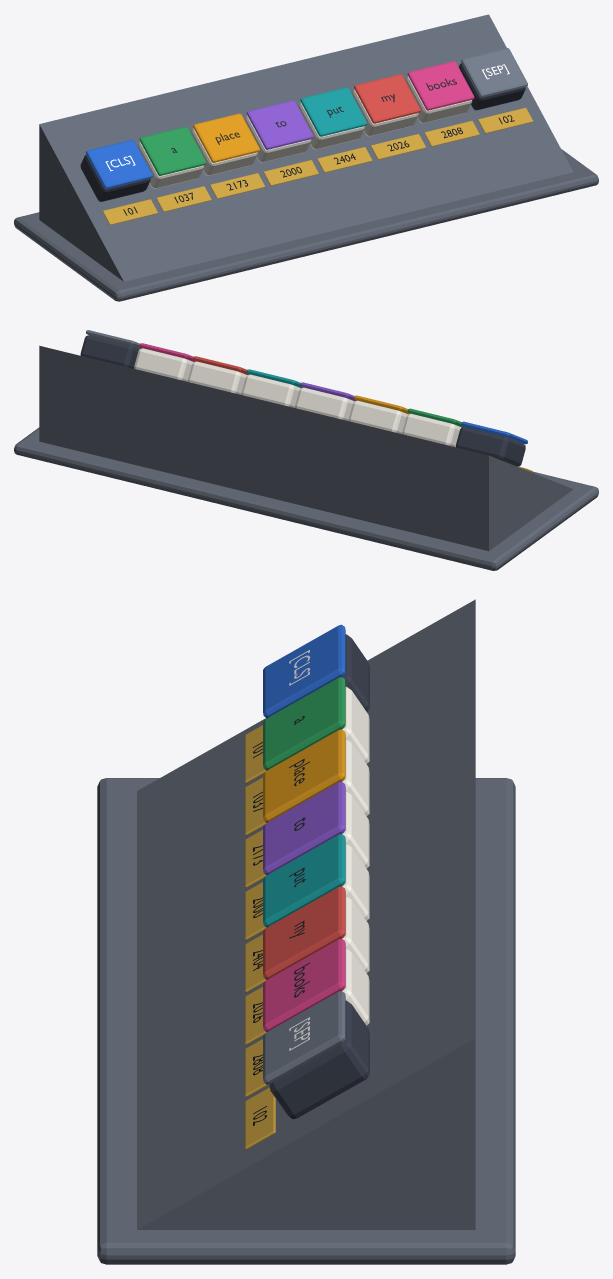
The model's file is tokenizer.glb.
3 views of the same model, one above another, from view 1: azimuth 30°, elevation 25°; view 2: azimuth 150°, elevation 25°; view 3: azimuth 270°, elevation 25° (orthographic). The views are drawn at different scales.
Visible parts, largest first — view 1: slope, stand, cap.001, cap.003, cap.005, cap.002, cap.004, cap.006, cap, cap.007, blk, blk.003 (+14 smaller); view 2: slope, stand, blk, blk.007, blk.002, blk.003, blk.001, blk.004, blk.006, blk.005, cap; view 3: slope, stand, blk.007, cap.007, cap.001, cap.003, cap.005, cap.004, cap.002, cap.006, cap, id_p.007 (+14 smaller).
Part boxes in pixels (x1=…): slope: x1=39, y1=14, x2=573, y2=281; stand: x1=14, y1=149, x2=598, y2=301; cap.001: x1=139, y1=126, x2=206, y2=175; cap.003: x1=246, y1=100, x2=313, y2=149; cap.005: x1=354, y1=74, x2=420, y2=123; cap.002: x1=193, y1=113, x2=259, y2=162; cap.004: x1=300, y1=87, x2=367, y2=136; cap.006: x1=407, y1=61, x2=474, y2=110; cap: x1=86, y1=139, x2=152, y2=188; cap.007: x1=461, y1=48, x2=527, y2=97; blk: x1=80, y1=154, x2=150, y2=201; blk.003: x1=244, y1=115, x2=311, y2=162; slope: x1=39, y1=345, x2=573, y2=551; stand: x1=14, y1=427, x2=598, y2=570; blk: x1=456, y1=427, x2=525, y2=466; blk.007: x1=80, y1=335, x2=139, y2=368; blk.002: x1=348, y1=400, x2=407, y2=433; blk.003: x1=295, y1=387, x2=353, y2=420; blk.001: x1=402, y1=413, x2=461, y2=447; blk.004: x1=241, y1=374, x2=300, y2=407; blk.006: x1=134, y1=348, x2=192, y2=381; blk.005: x1=188, y1=361, x2=246, y2=394; cap: x1=461, y1=421, x2=527, y2=444; slope: x1=137, y1=599, x2=475, y2=1229; stand: x1=97, y1=778, x2=515, y2=1264; blk.007: x1=269, y1=1000, x2=369, y2=1118; cap.007: x1=263, y1=991, x2=345, y2=1084; cap.001: x1=263, y1=677, x2=345, y2=770; cap.003: x1=263, y1=781, x2=345, y2=874; cap.005: x1=263, y1=886, x2=345, y2=979; cap.004: x1=263, y1=834, x2=345, y2=927; cap.002: x1=263, y1=729, x2=345, y2=822; cap.006: x1=263, y1=938, x2=345, y2=1031; cap: x1=263, y1=624, x2=345, y2=718; id_p.007: x1=245, y1=1087, x2=275, y2=1149.
Bounding box in the file's own units: 1.4 × 0.295 × 0.524.
